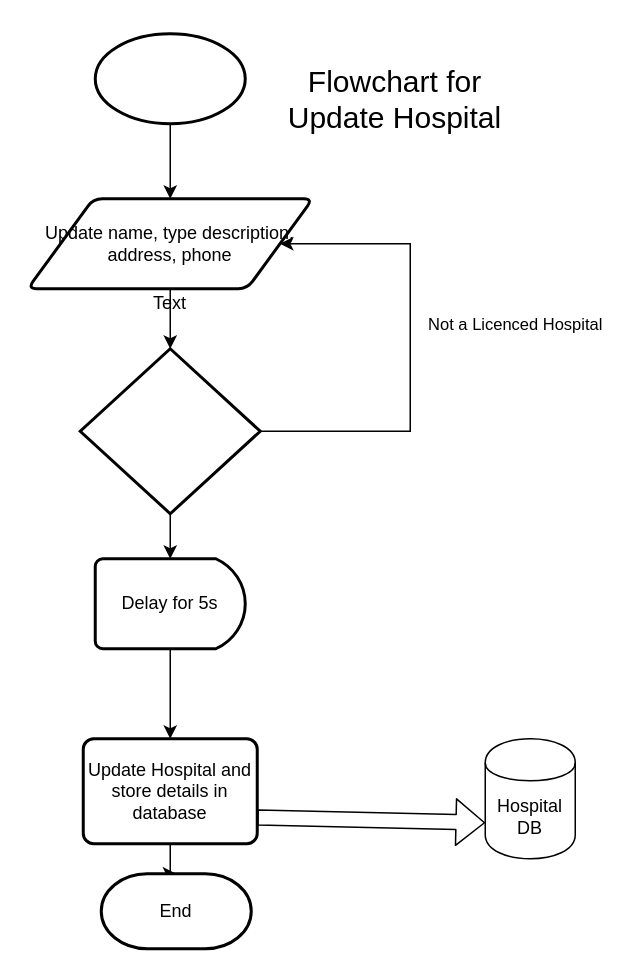
This 627x975 diagram has some shape labels left out. Here are the shapes that lost their labels. From the top down, the centre of each, then its label:
At (x=169, y=78): "Begin".
At (x=169, y=430): "Validate Hospital Licence".
